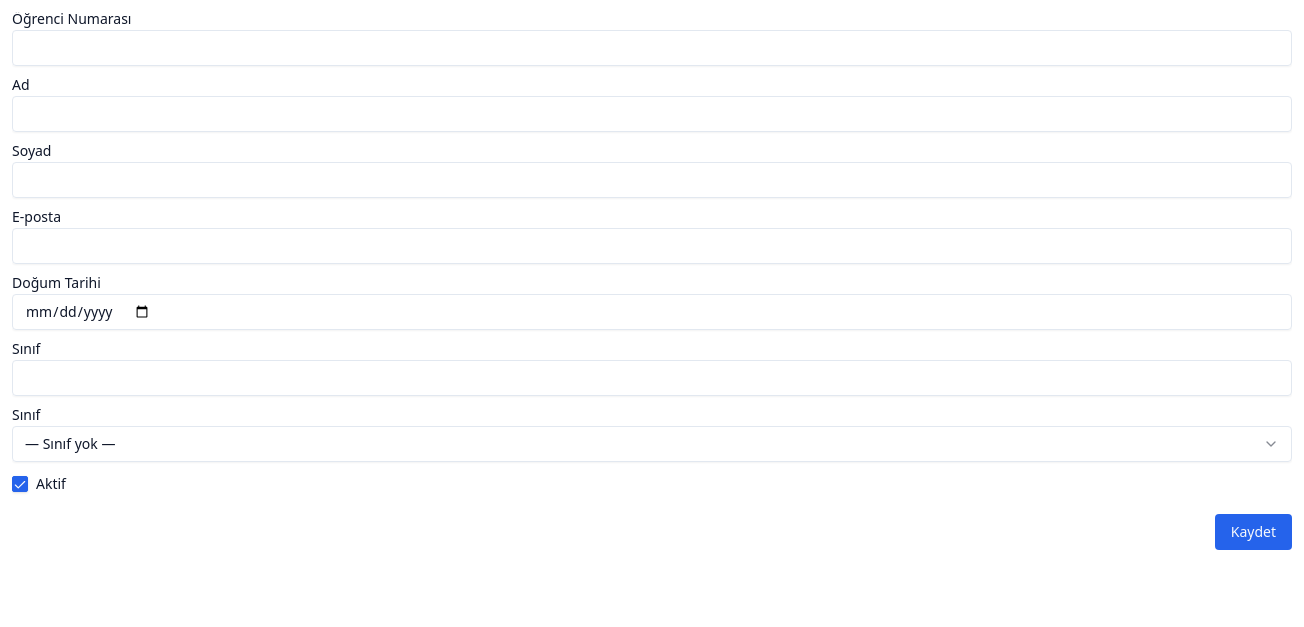
it: StudentForm › shows required validation errors when submitted empty
Click the button "Kaydet" at point(1253, 532), box [1215,514,1292,550]
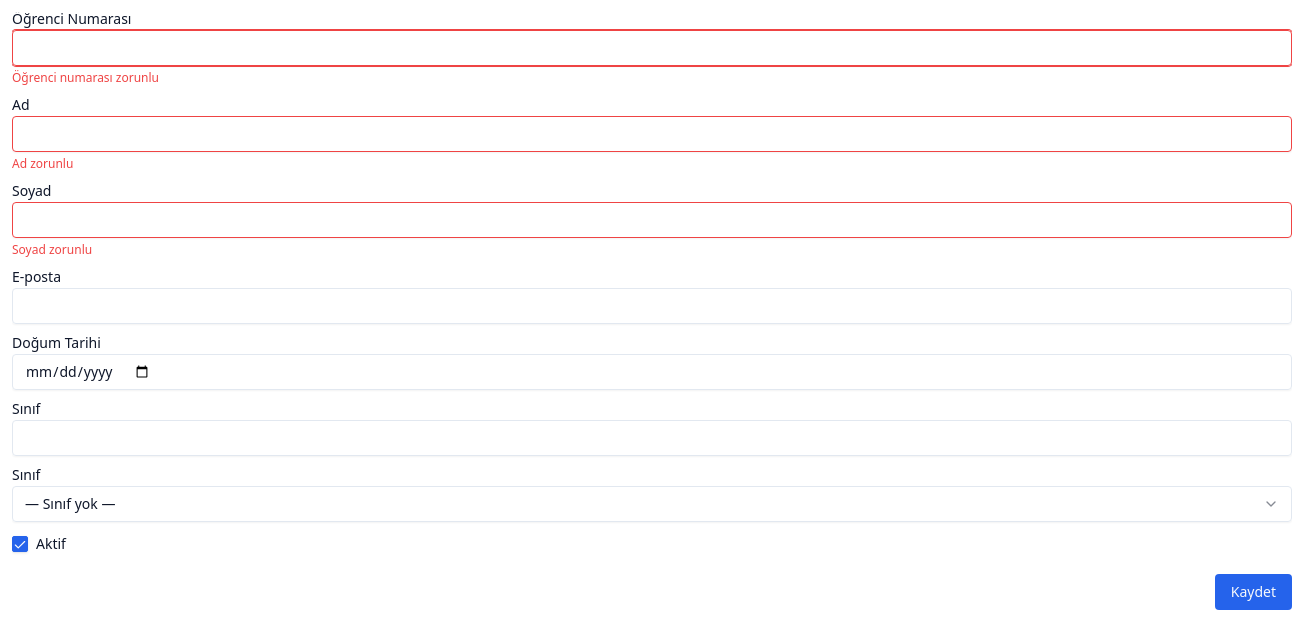
Expected: the message "Öğrenci numarası zorunlu" is shown, [12,69,159,86]
